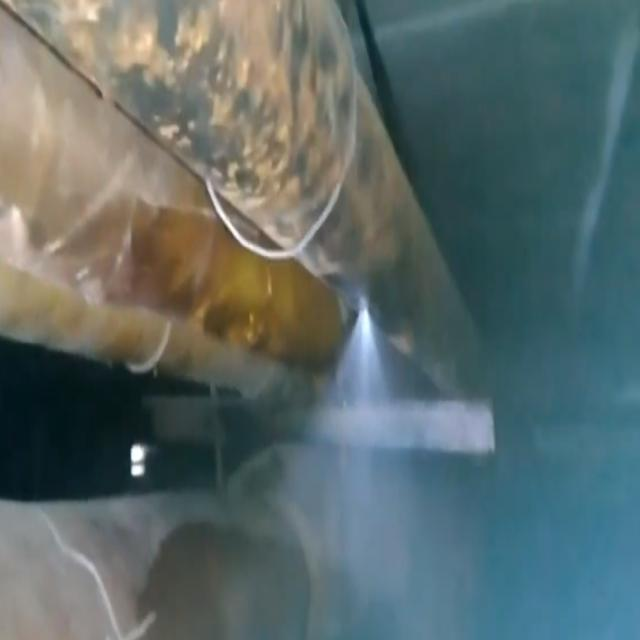leak: (266, 307, 429, 574)
